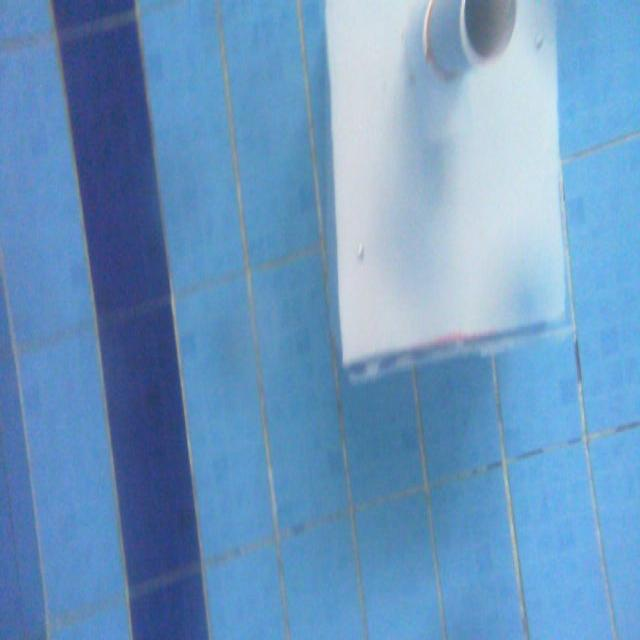Cube: (321, 0, 569, 370)
